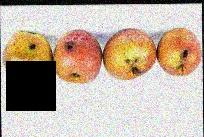rotten apple: (101, 27, 156, 80), (50, 29, 101, 85), (1, 30, 51, 83), (155, 25, 202, 80)
